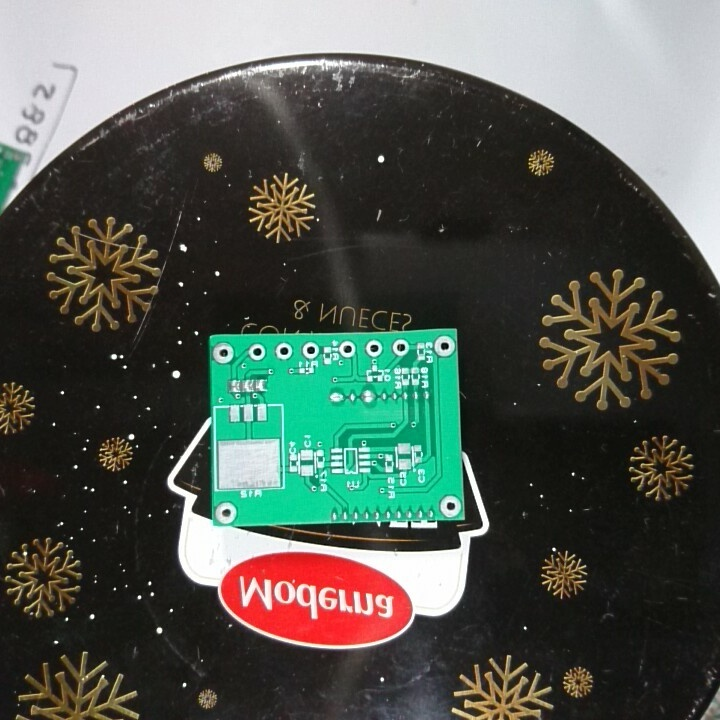F: (211, 340, 236, 366), (214, 500, 239, 526), (432, 334, 456, 360), (438, 493, 462, 518), (363, 339, 387, 358), (390, 338, 411, 358), (299, 341, 320, 361), (273, 342, 294, 362), (246, 343, 268, 362), (337, 339, 357, 359)
P: (358, 387, 377, 407), (328, 388, 345, 408)
